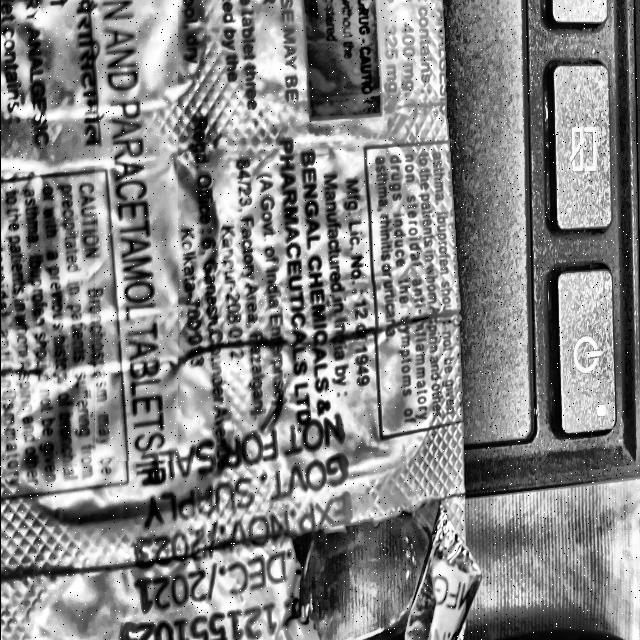IBUPROFEN AND PARACETAMOL TABLETS: (94, 0, 176, 461)
